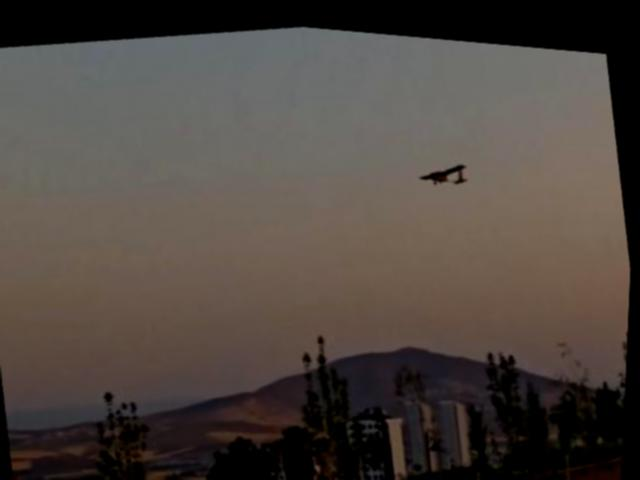uav: (410, 140, 478, 194)
